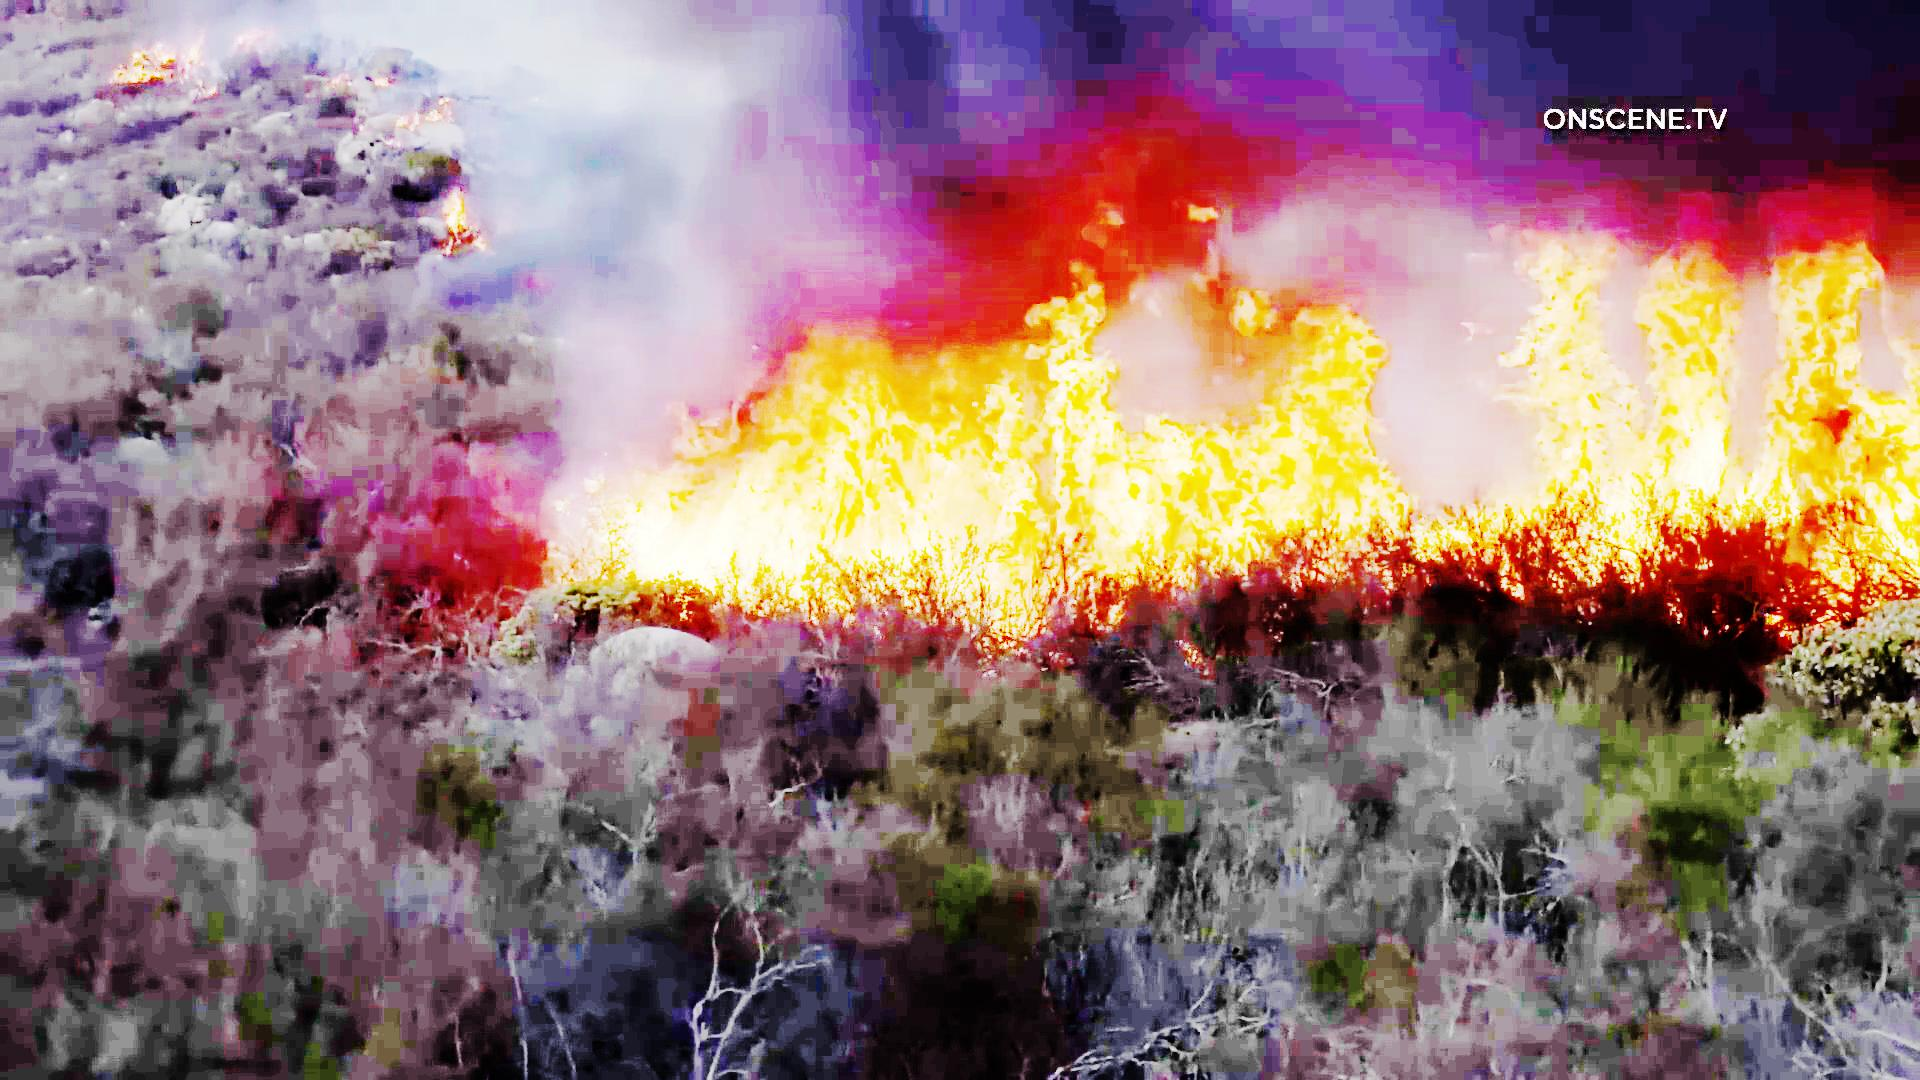fire: (641, 225, 1911, 599)
smoke: (491, 11, 1540, 212)
